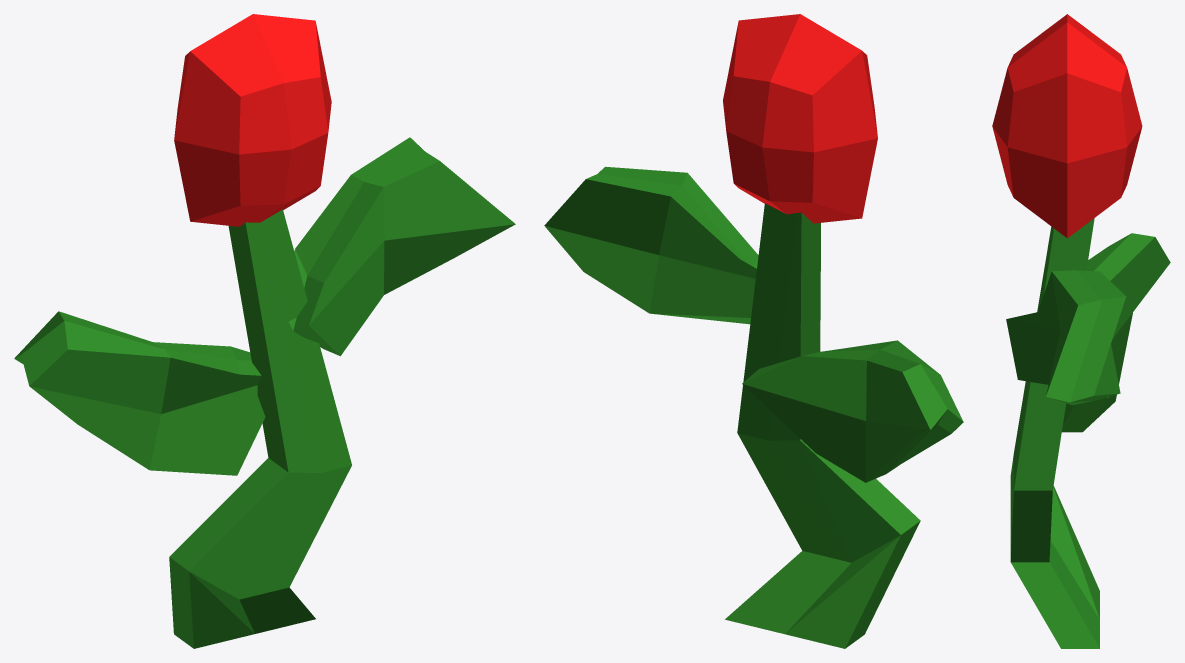
The model's file is flower.FBX.
The picture shows the model from 3 angles, left to right: view 1: azimuth 30°, elevation 25°; view 2: azimuth 150°, elevation 25°; view 3: azimuth 270°, elevation 25°; orthographic projection. The views are drawn at different scales.
Parts seen in each view (by area): view 1: Box028, Box027, Box030, Box029; view 2: Box028, Box027, Box029, Box030; view 3: Box027, Box028, Box029, Box030.
Boxes of the visible parts, bbox=[...] form: Box028: bbox=[169, 209, 351, 648]; Box027: bbox=[174, 14, 331, 226]; Box030: bbox=[14, 311, 265, 475]; Box029: bbox=[289, 137, 515, 356]; Box028: bbox=[725, 203, 920, 648]; Box027: bbox=[723, 14, 877, 223]; Box029: bbox=[544, 166, 758, 324]; Box030: bbox=[742, 340, 963, 482]; Box027: bbox=[992, 14, 1142, 238]; Box028: bbox=[1010, 218, 1099, 648]; Box029: bbox=[1006, 270, 1126, 405]; Box030: bbox=[1062, 233, 1170, 432].
Size of the model in its own units: 13.33 by 17.6 by 4.76.
